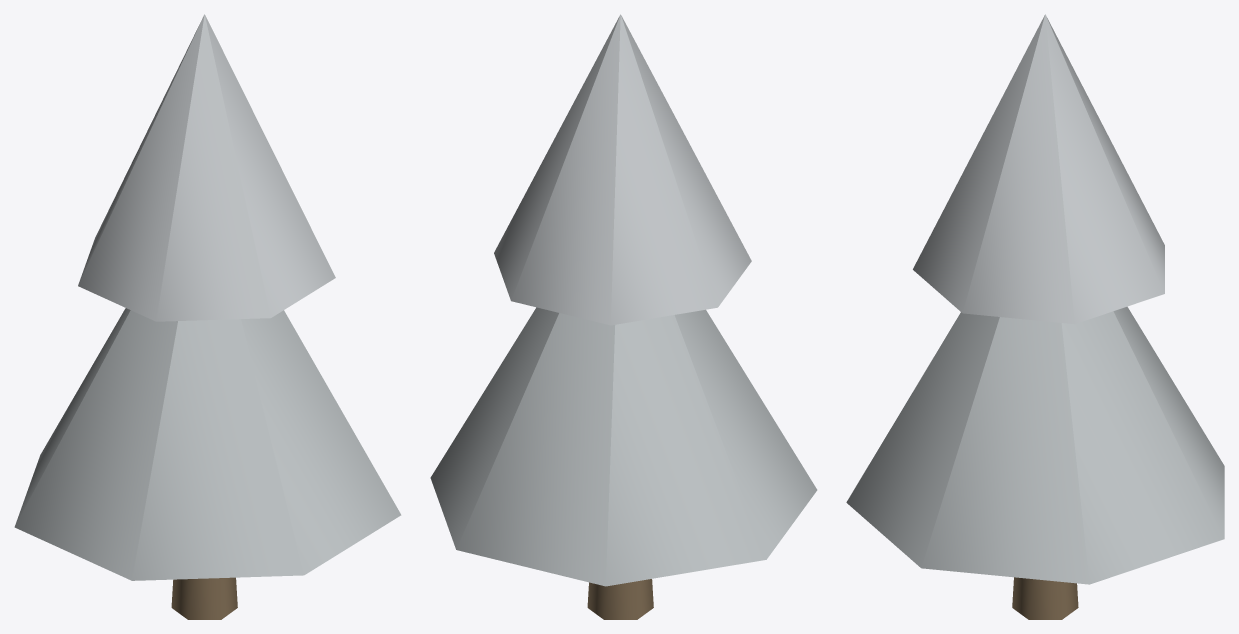
Rendered from snow-pine.glb.
3 renders of one model, left to right at view 1: azimuth 30°, elevation 25°; view 2: azimuth 150°, elevation 25°; view 3: azimuth 270°, elevation 25°, orthographic.
Visible parts, largest first — view 1: snow-pine; view 2: snow-pine; view 3: snow-pine.
Part boxes in pixels (x1,y1,x2,y2): snow-pine: [14, 14, 401, 619]; snow-pine: [430, 14, 817, 619]; snow-pine: [846, 14, 1224, 619].
Size of the model in its own units: 4.68 by 7.9 by 4.56.
